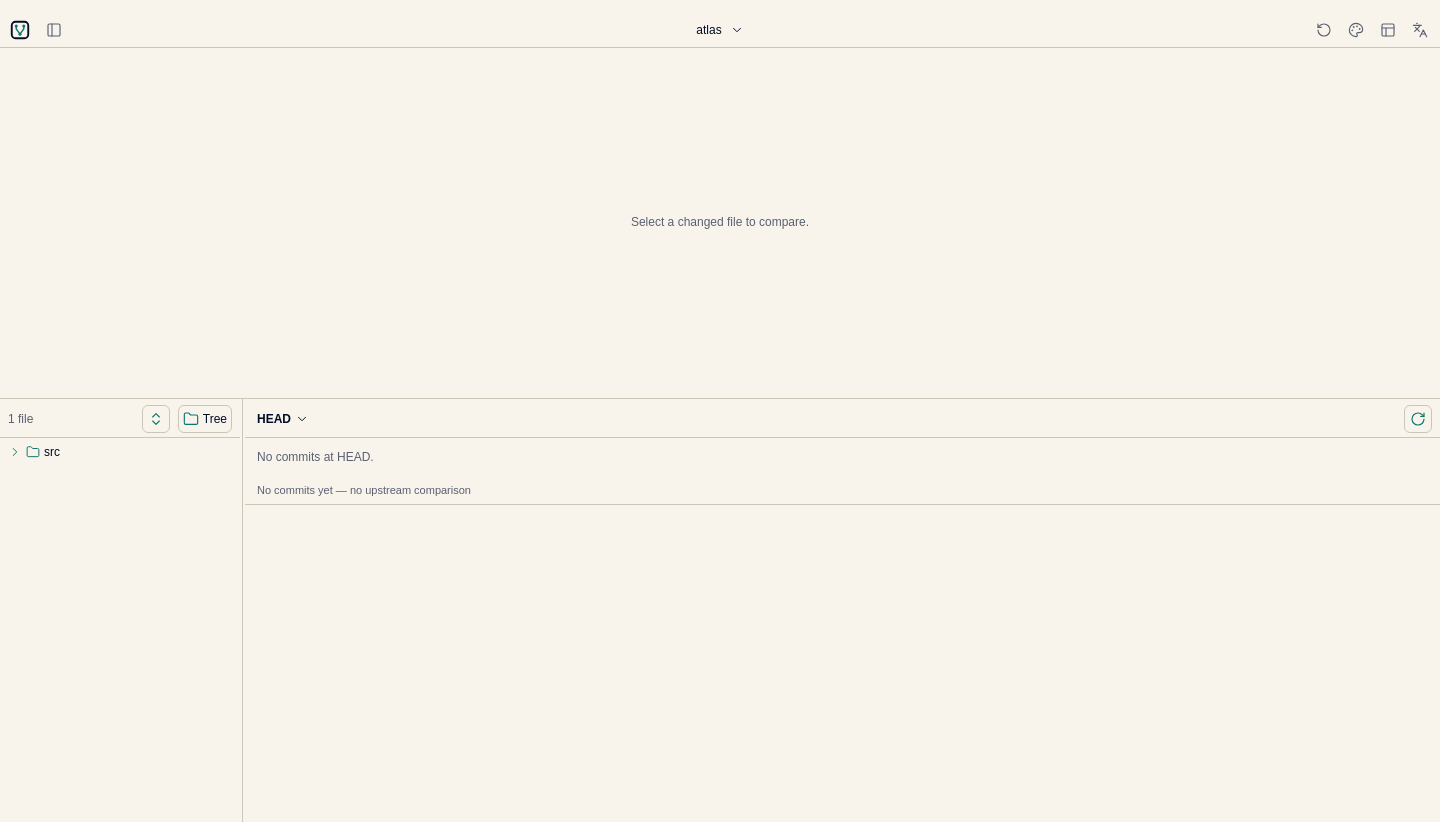
Test: late repository listings cannot replace the newly selected repository tree
This screenshot has width=1440, height=822.
Click the button named "Expand sidebar".
click(54, 30)  # box top-left (40, 16), bottom-right (68, 44)
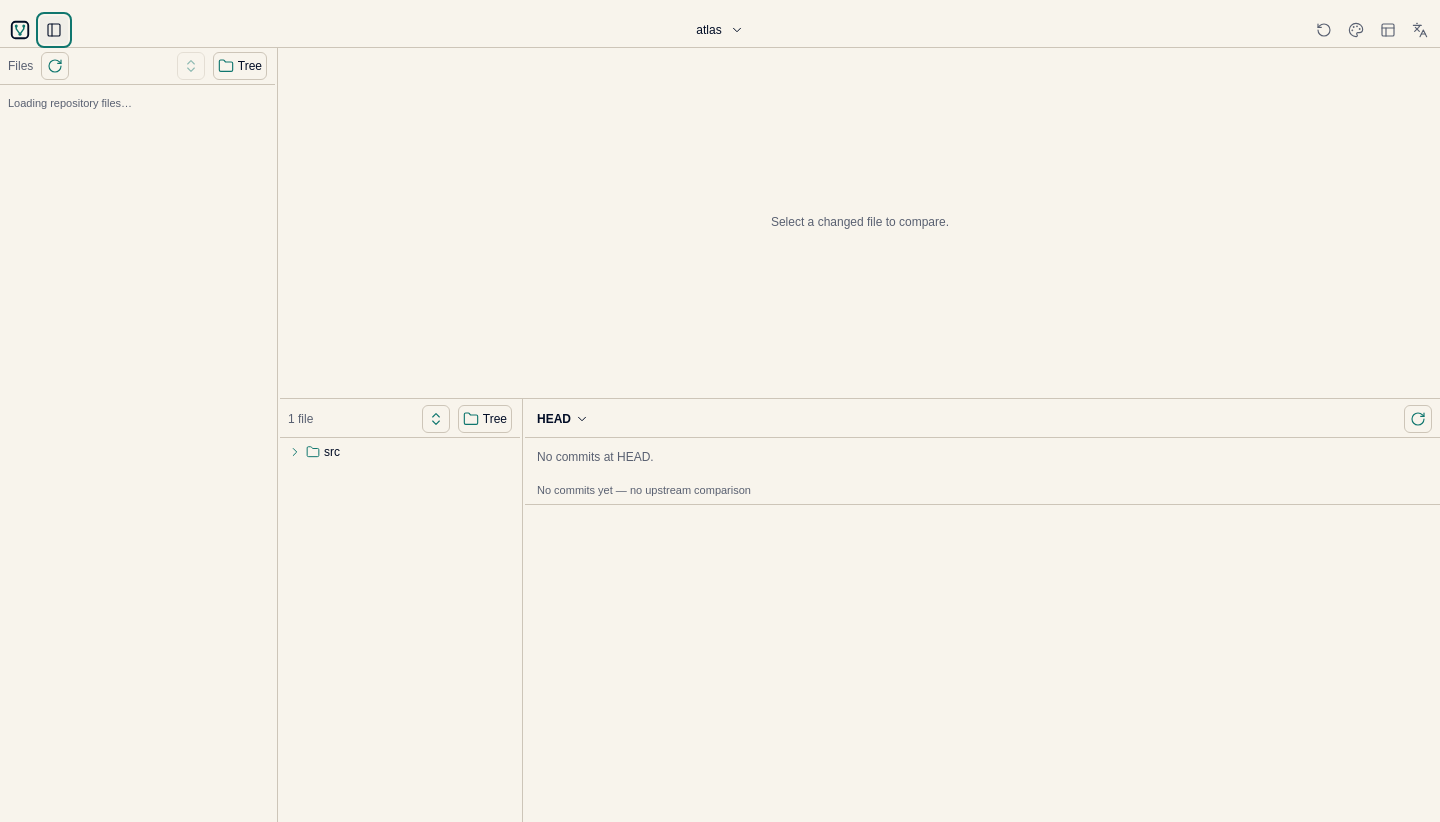
Click the button with aria-label "Current repository: atlas".
click(720, 30)  # box top-left (690, 14), bottom-right (750, 44)
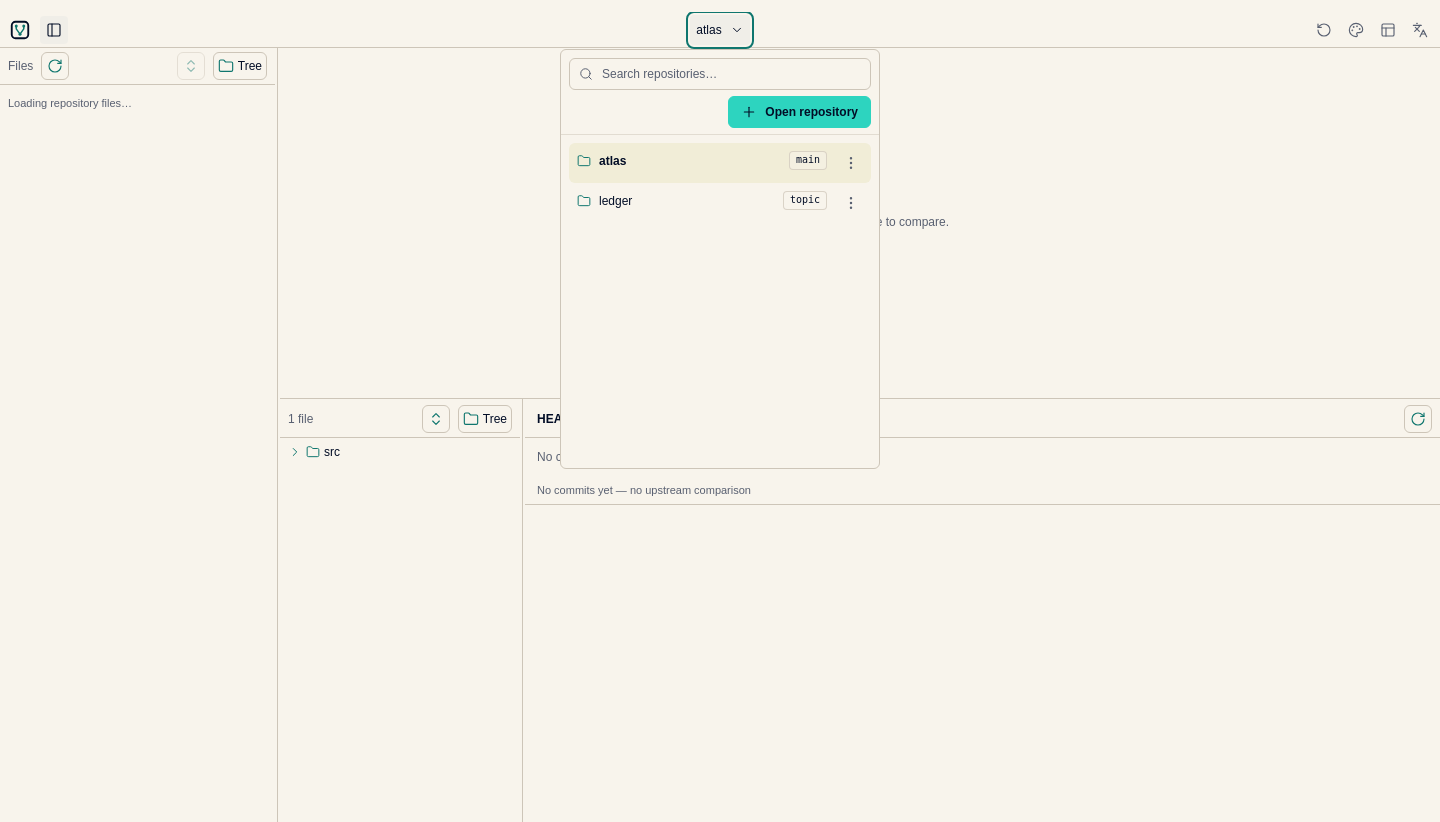
Click the button "ledger topic".
click(616, 200)  # box top-left (569, 184), bottom-right (835, 220)
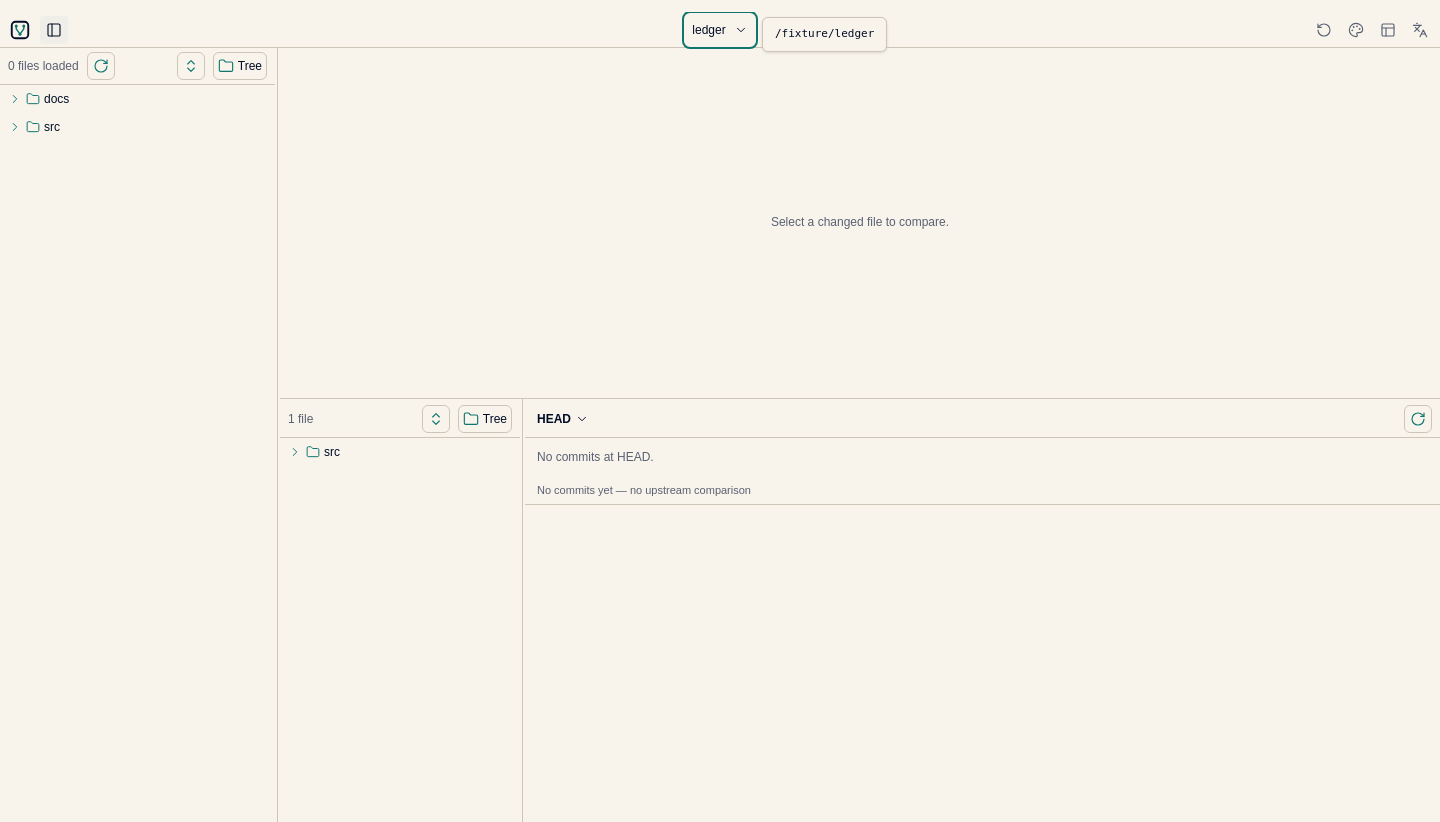
expect the button with aria-label "Current repository: ledger" is shown: met, box top-left (686, 14), bottom-right (754, 44)
expect the button with aria-label "Expand docs" is shown: met, box top-left (4, 85), bottom-right (271, 113)
Click the button named "Expand all" next to "0 files loaded".
click(191, 66)  # box top-left (177, 52), bottom-right (205, 80)
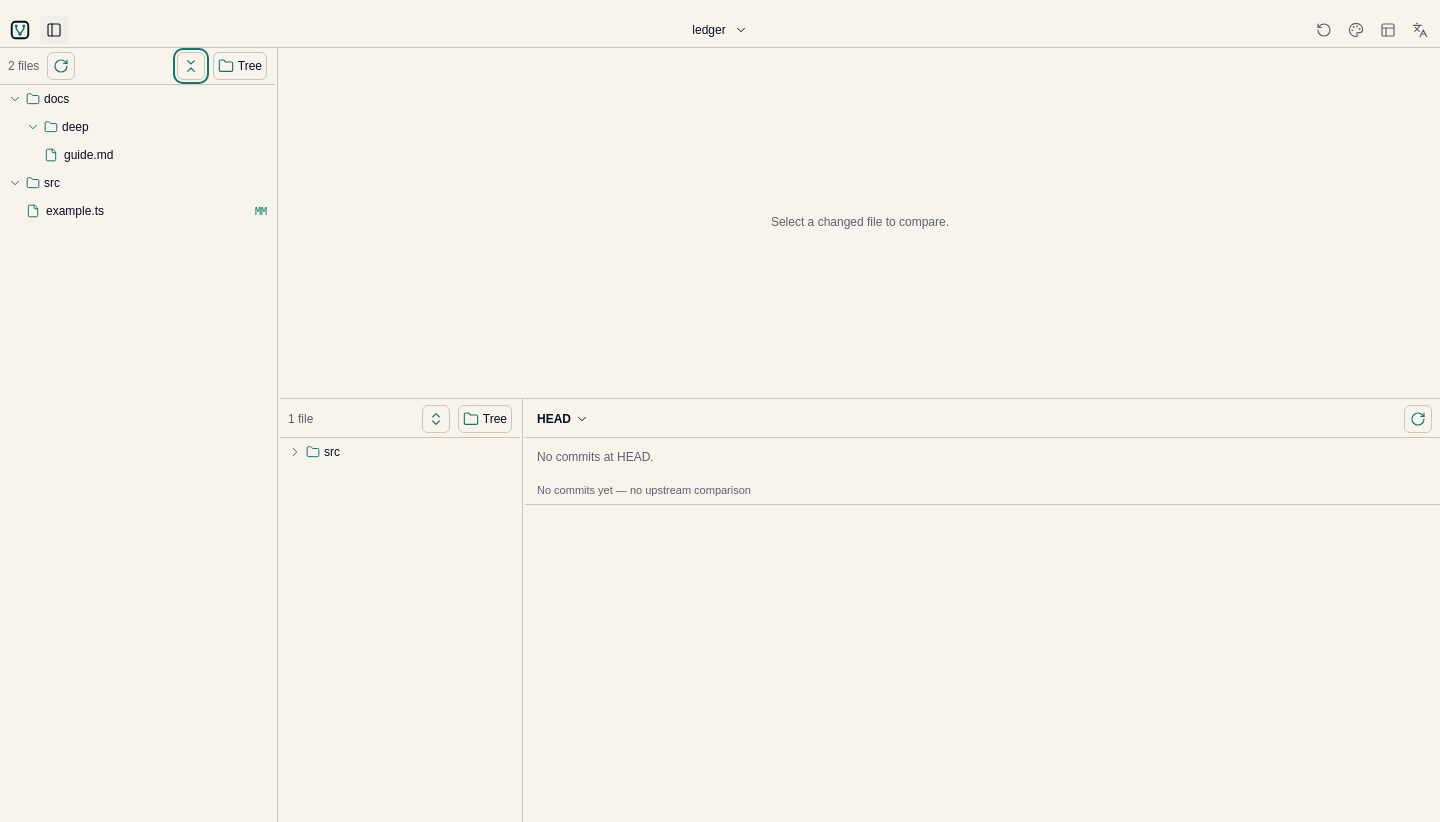
expect the button with aria-label "Review docs/deep/guide.md" is shown: met, box top-left (40, 141), bottom-right (271, 169)
